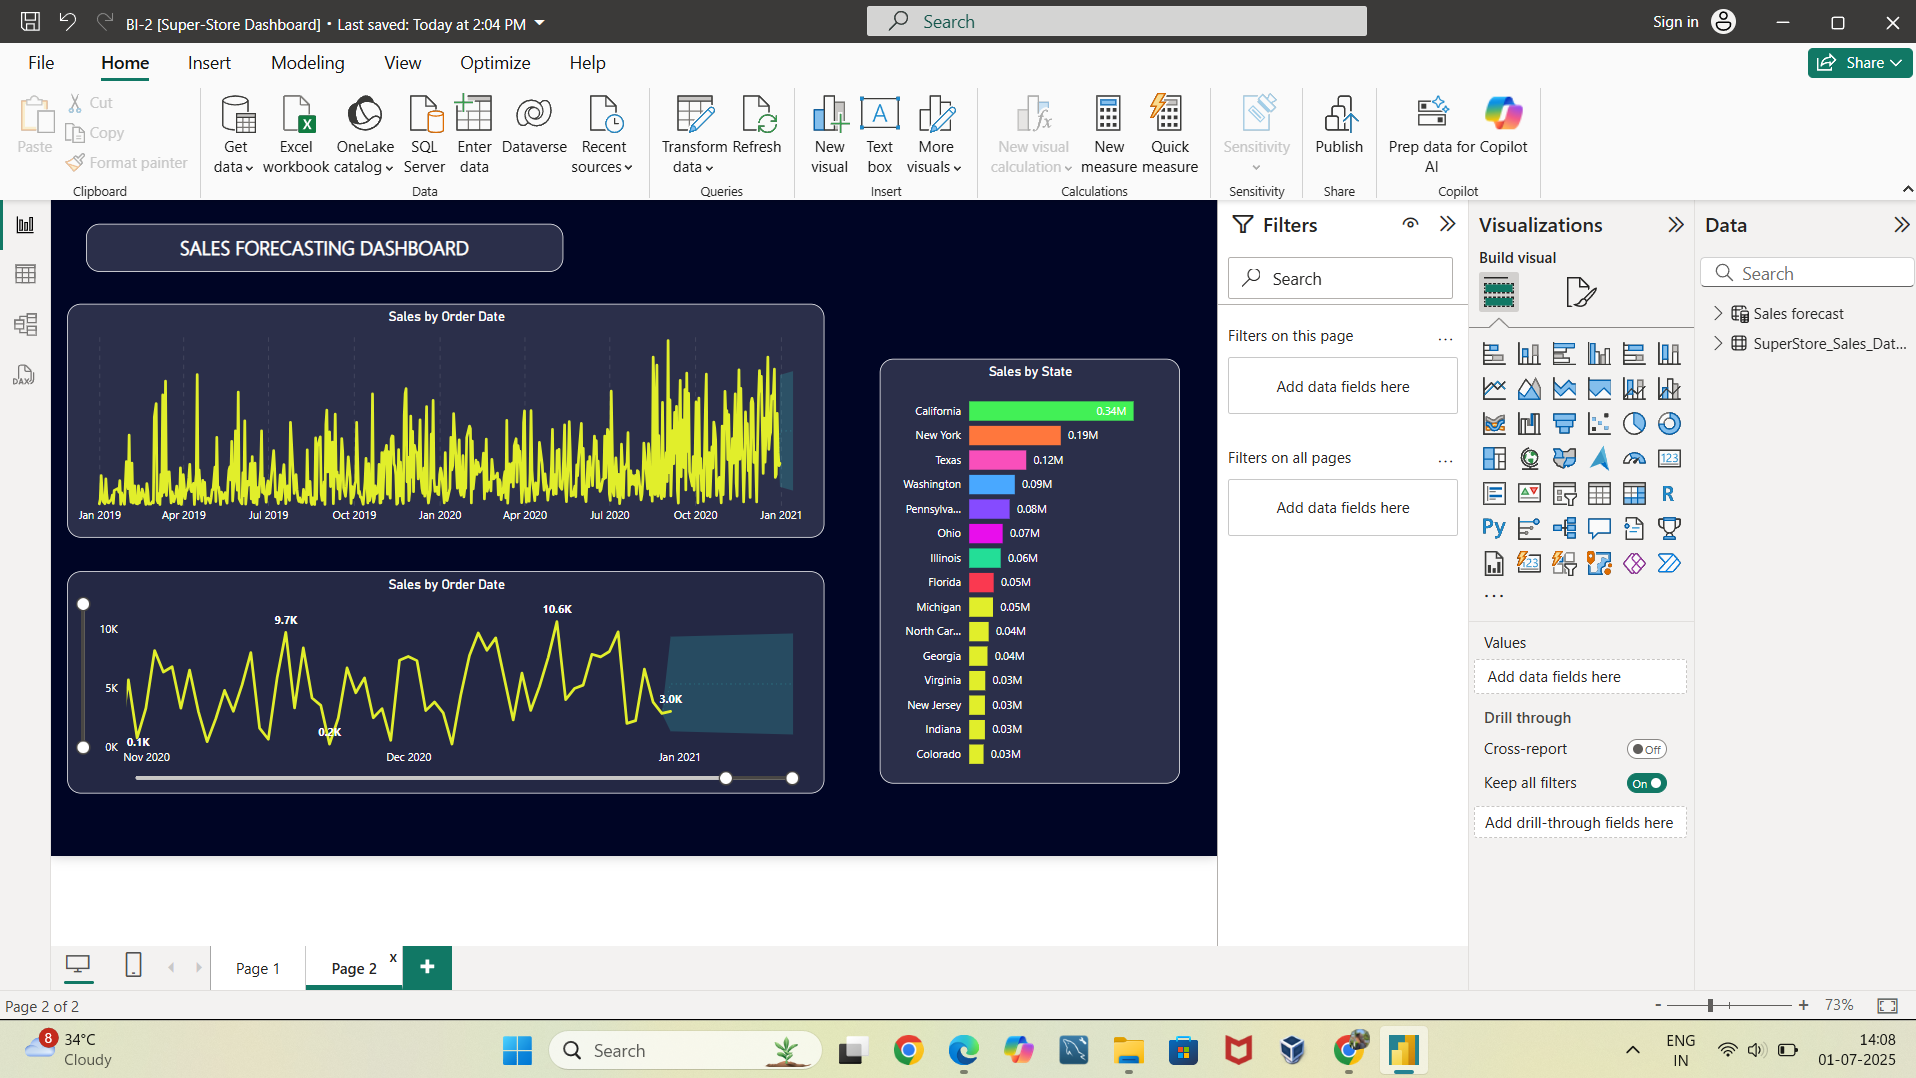

What the dashboard file says about the page in this screenshot:
{"tool":"powerbi","page":{"name":"Page 2","canvas":[1280,720],"ordinal":1},"visuals":[{"type":"lineChart","title":"Sales by Order Date","fields":{"Y":["SuperStore_Sales_Dataset.Sales"],"Category":["SuperStore_Sales_Dataset.Order Date"]},"box":[17.8,113.9,831.6,256.6],"z":0},{"type":"lineChart","title":"Sales by Order Date","fields":{"Y":["SuperStore_Sales_Dataset.Sales"],"Category":["SuperStore_Sales_Dataset.Order Date"]},"box":[17.8,407.5,831.6,244.3],"z":1000},{"type":"textbox","box":[38.8,26.2,523.8,52.5],"z":2000},{"type":"clusteredBarChart","title":"Sales by State","fields":{"Y":["SuperStore_Sales_Dataset.Sales"],"Category":["SuperStore_Sales_Dataset.State"]},"box":[909.8,174.3,329.3,466.6],"z":3000}]}

Visuals, with their boxes on the page's 1280x720 design canvas (x1, y1, x2, y2). These are canvas units, not pixel positions in the 1916x1078 screenshot, which may show the page scaled, cropped or inside an application window:
"Sales by Order Date" lineChart: [left=18, top=114, right=849, bottom=370]
"Sales by Order Date" lineChart: [left=18, top=408, right=849, bottom=652]
textbox: [left=39, top=26, right=563, bottom=79]
"Sales by State" clusteredBarChart: [left=910, top=174, right=1239, bottom=641]
